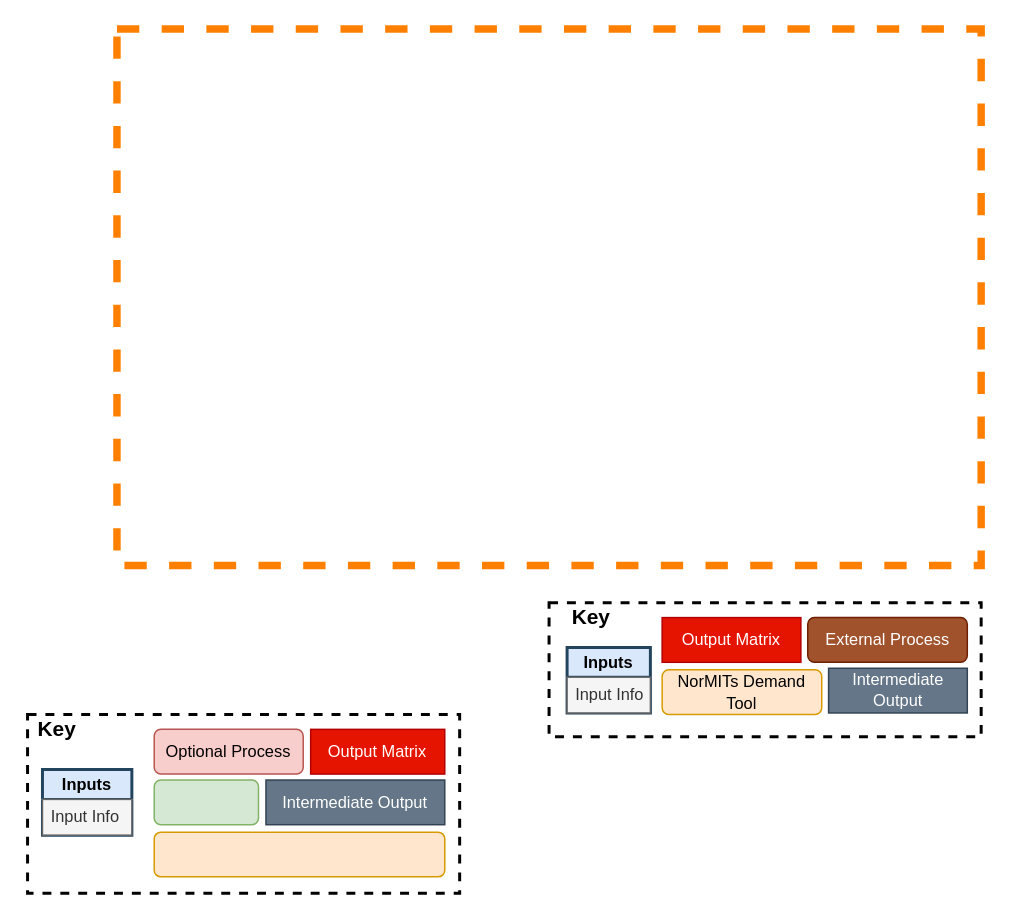
Some shapes in this 1010 by 921 pixel diagram are drawn without their labels. Here are the shapes that lost their labels. From the top down, the box of each, then its label:
(112, 25, 984, 568): External Forecasting System
(153, 779, 259, 825): Process
(153, 831, 445, 877): External NorMITs Demand Tool
